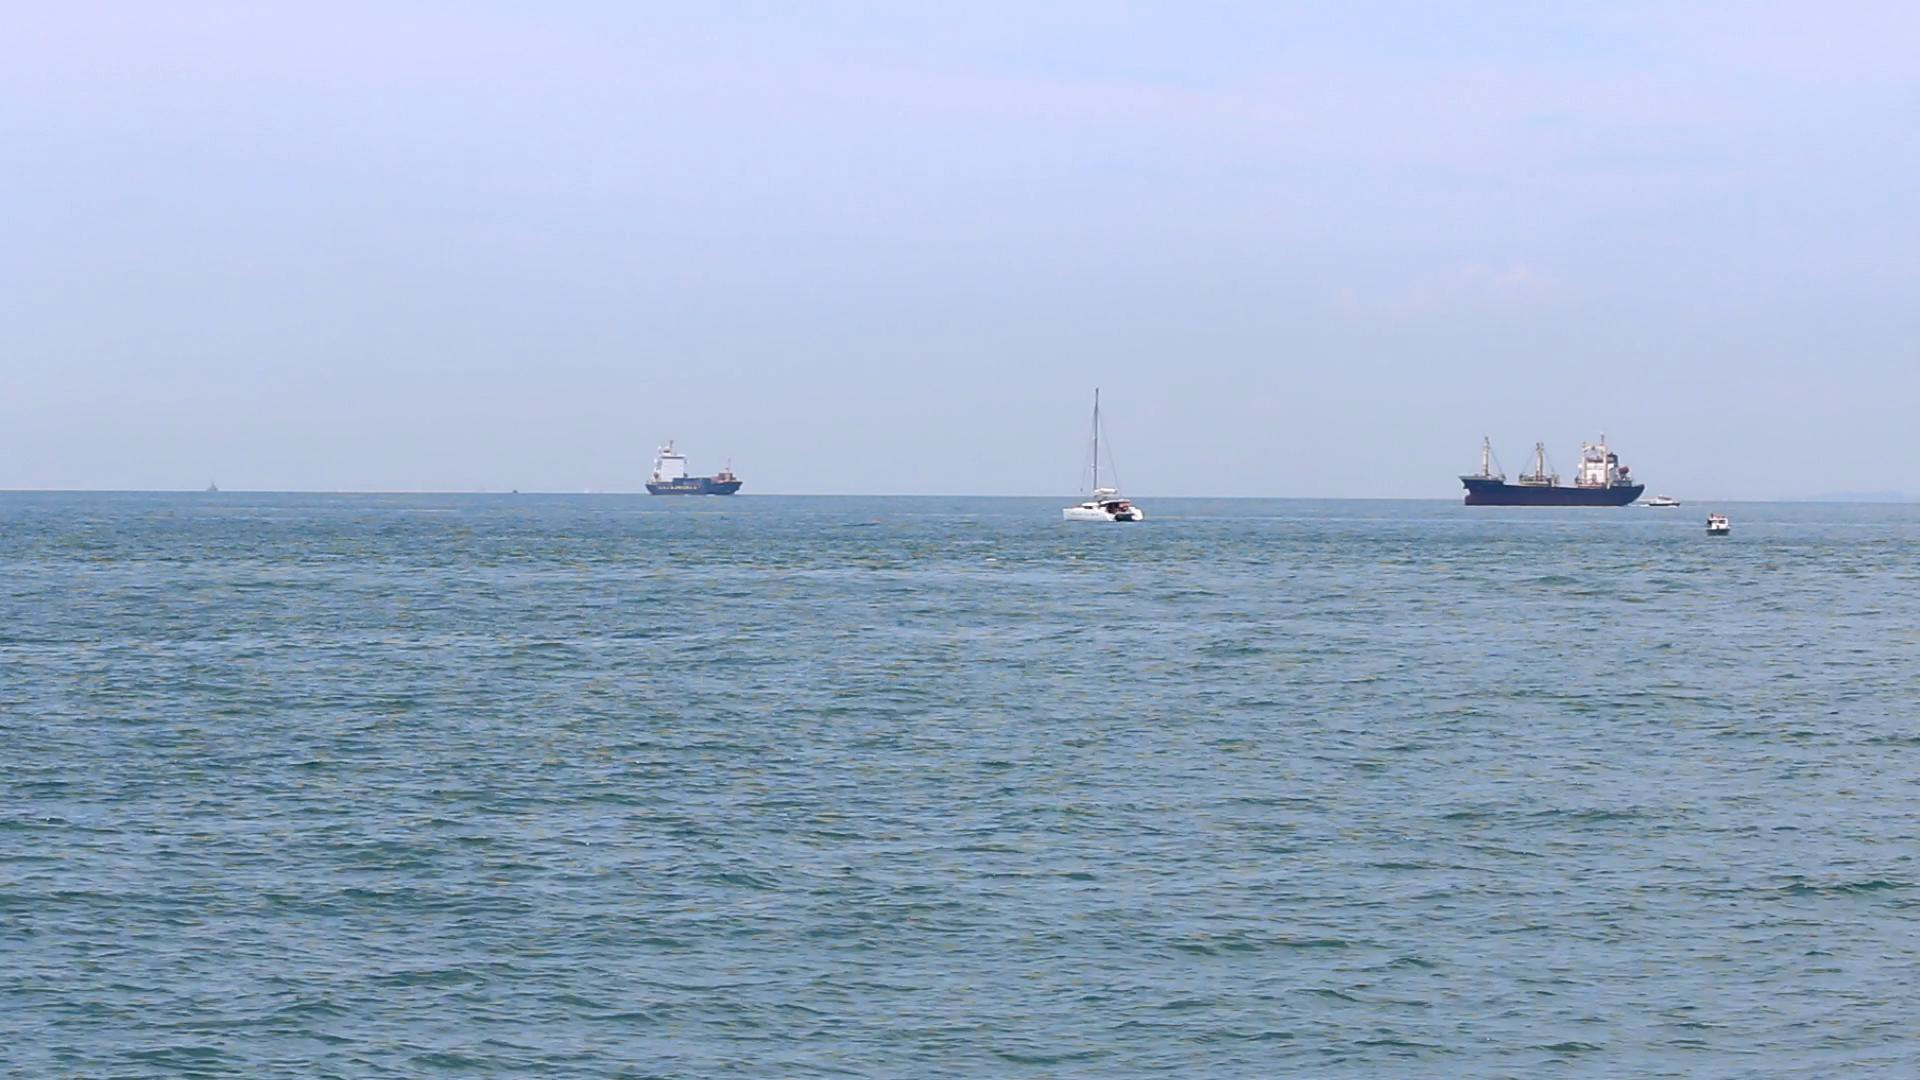Container Ship: (1460, 434, 1648, 508), (645, 439, 745, 500)
